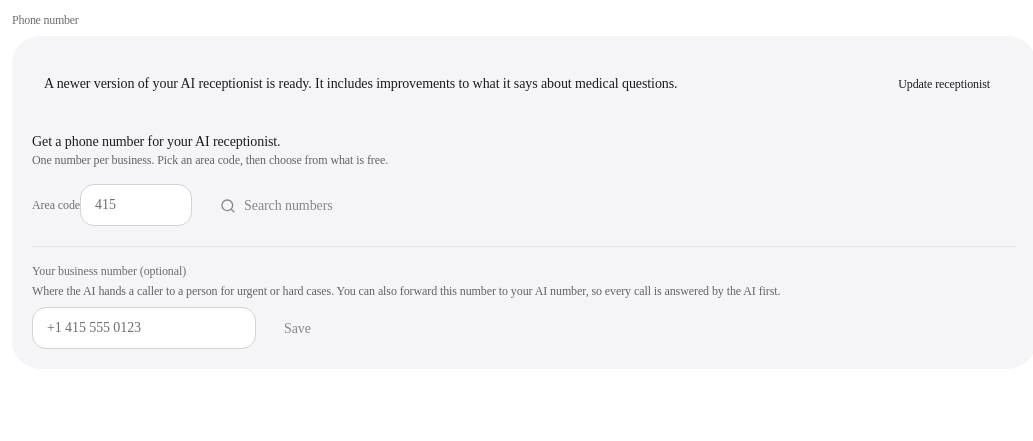
Test: updating the receptionist › says plainly when the business details did not follow, and when an update fails
What coordinates should you click on to do the following:
click the button "Update receptionist"
I would click on:
 (944, 84)
Its box is [884, 68, 1004, 100].
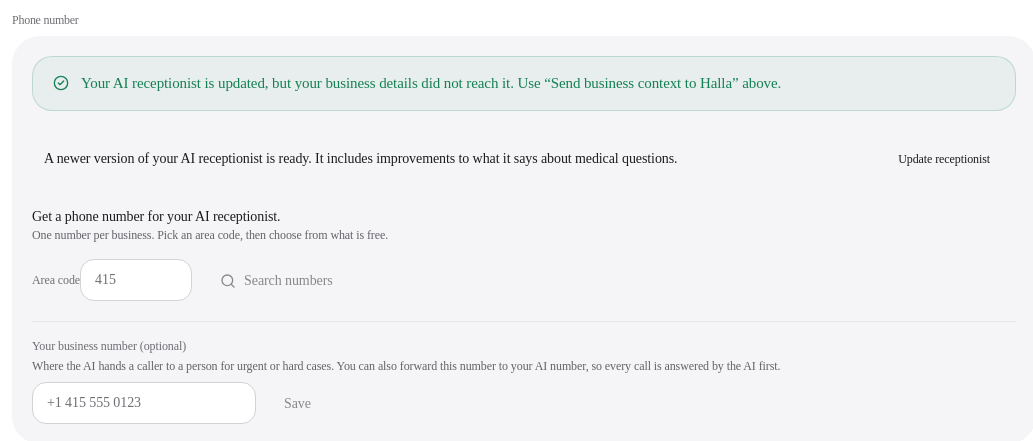
Now the text "business details did not reach it" is shown, box [81, 75, 781, 91]
What coordinates should you click on to do the following:
click the button "Update receptionist"
I would click on:
 (944, 159)
Its box is [884, 143, 1004, 175].
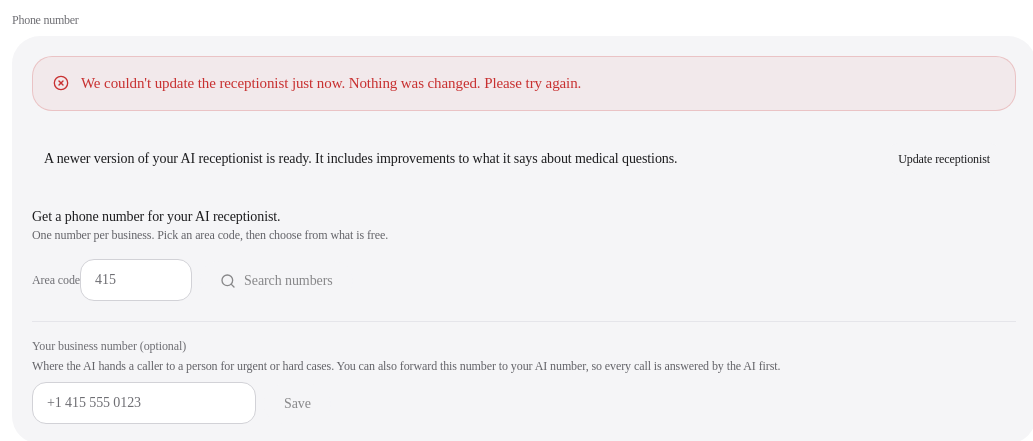
Now the text "Nothing was changed" is shown, box [81, 75, 581, 91]
